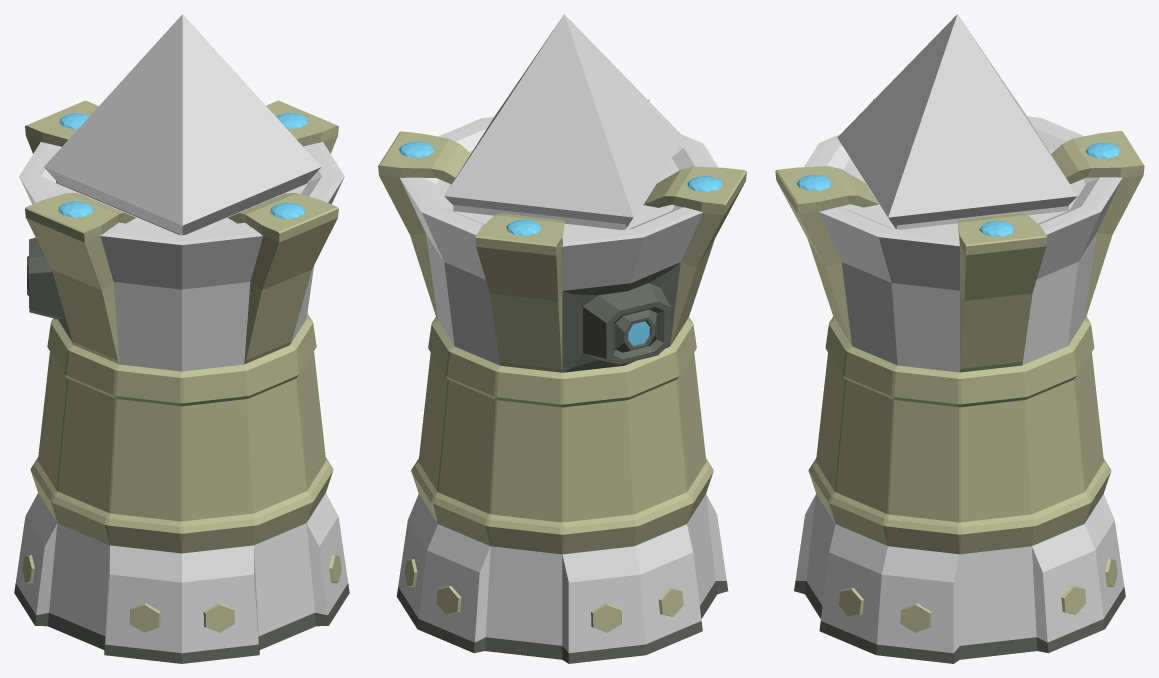
The model's file is 3.3激光发射台（顶部重做）.fbx.
3 views of the same model, side by side, from view 1: azimuth 30°, elevation 25°; view 2: azimuth 150°, elevation 25°; view 3: azimuth 270°, elevation 25° (orthographic).
Visible parts, largest first — view 1: 柱体.007, 柱体.008, 立方体, 柱体.003, 柱体.004, 柱体.005, 柱体.002, 柱体.014, 柱体.013; view 2: 柱体.007, 柱体.008, 立方体, 柱体.005, 柱体.004, 柱体.002, 柱体.001, 柱体.015, 柱体.016, 柱体.012; view 3: 柱体.007, 柱体.008, 立方体, 柱体.002, 柱体.003, 柱体.005, 柱体.001, 柱体.018, 柱体.017, 柱体.019.
Part boxes in pixels (x1,y1,x2,y2): 柱体.007: [14, 142, 349, 663]; 柱体.008: [30, 313, 333, 553]; 立方体: [44, 14, 320, 235]; 柱体.003: [228, 193, 338, 364]; 柱体.004: [25, 193, 135, 364]; 柱体.005: [25, 100, 98, 153]; 柱体.002: [266, 100, 338, 153]; 柱体.014: [129, 603, 160, 632]; 柱体.013: [203, 603, 234, 632]; 柱体.007: [396, 117, 728, 663]; 柱体.008: [411, 316, 713, 554]; 立方体: [444, 14, 684, 227]; 柱体.005: [475, 213, 564, 372]; 柱体.004: [643, 166, 746, 345]; 柱体.002: [378, 131, 470, 319]; 柱体.001: [453, 204, 630, 229]; 柱体.015: [591, 603, 621, 632]; 柱体.016: [436, 585, 461, 614]; 柱体.012: [658, 587, 683, 616]; 柱体.007: [794, 116, 1125, 663]; 柱体.008: [808, 316, 1111, 554]; 立方体: [837, 14, 1077, 228]; 柱体.002: [957, 213, 1046, 372]; 柱体.003: [775, 166, 878, 345]; 柱体.005: [1051, 131, 1144, 318]; 柱体.001: [896, 205, 1068, 229]; 柱体.018: [900, 603, 931, 632]; 柱体.017: [1061, 585, 1086, 614]; 柱体.019: [839, 587, 863, 616].
Size of the model in its own units: 76.69 by 133 by 76.69.
